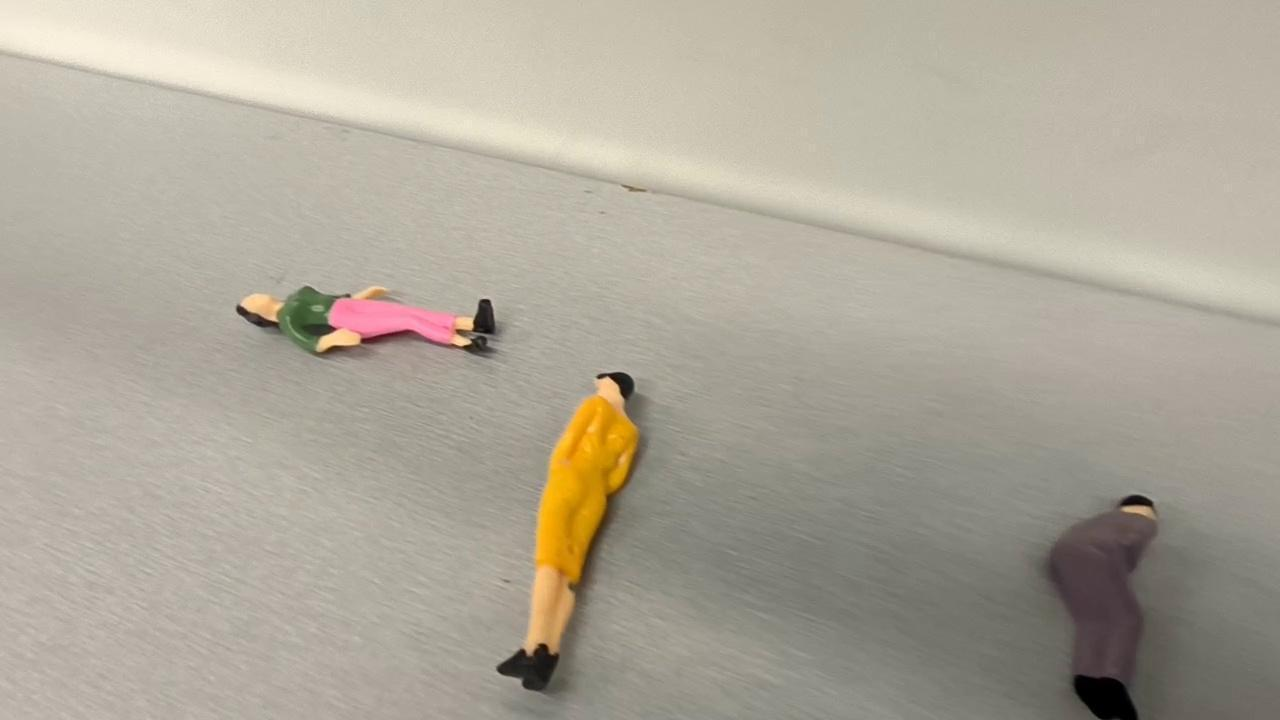human: (498, 371, 641, 691), (1052, 494, 1159, 720), (236, 283, 497, 355)
